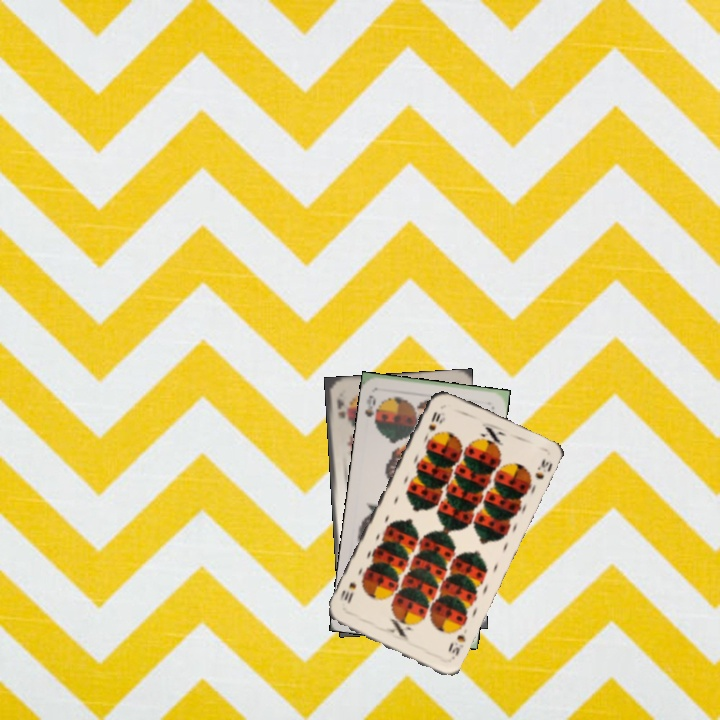S10: (444, 630, 468, 659), (424, 408, 443, 435)
SK: (332, 394, 347, 421)
SO: (361, 391, 378, 420)
